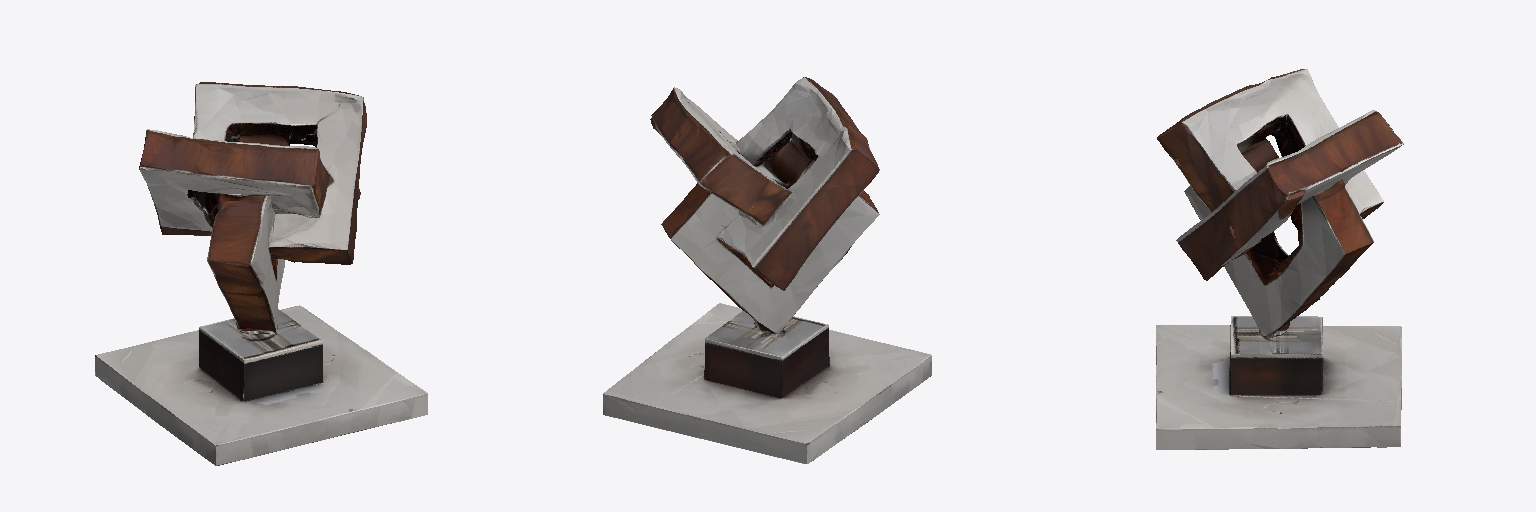
3 renders of one model, left to right at view 1: azimuth 30°, elevation 25°; view 2: azimuth 150°, elevation 25°; view 3: azimuth 270°, elevation 25°, orthographic.
Visible parts, largest first — view 1: Triangular_Illusion_[number redacted]_texture; view 2: Triangular_Illusion_[number redacted]_texture; view 3: Triangular_Illusion_[number redacted]_texture.
Boxes of the visible parts, box(x1,y1,x2,y2) form: Triangular_Illusion_[number redacted]_texture: box(95, 82, 427, 465); Triangular_Illusion_[number redacted]_texture: box(603, 77, 931, 463); Triangular_Illusion_[number redacted]_texture: box(1156, 69, 1403, 449).
Size of the model in its own units: 7 by 8.24 by 6.61.
1 materials, 1 textured.